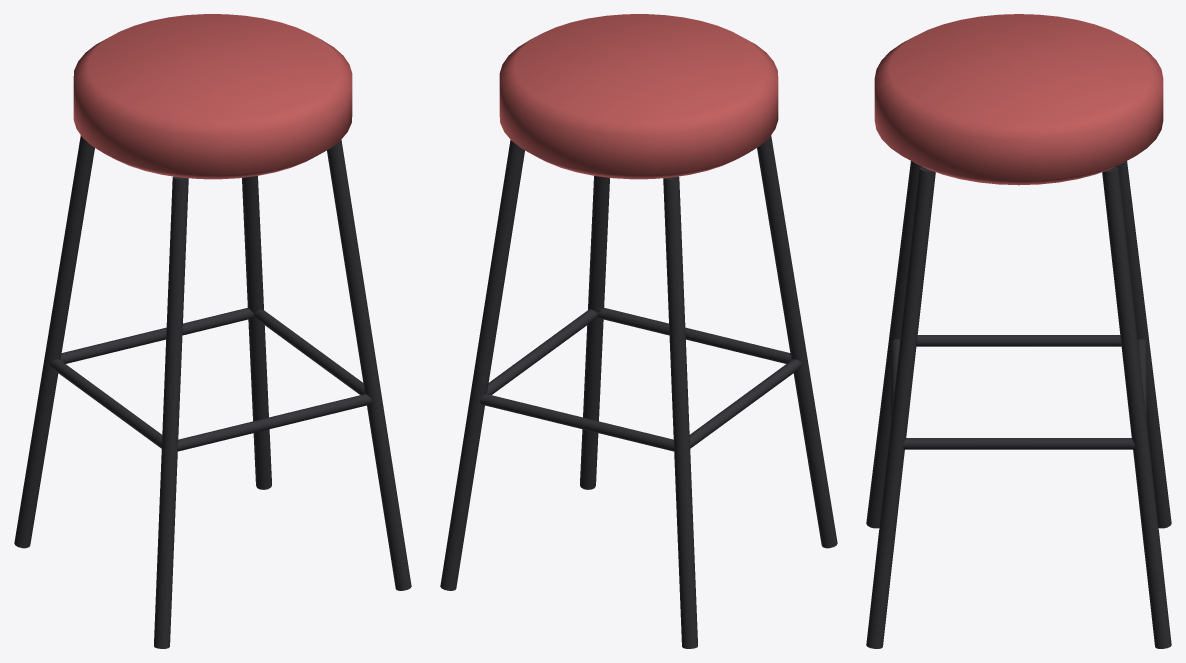
File: taburete_tapizado.glb
3 views of the same model, side by side, from view 1: azimuth 30°, elevation 25°; view 2: azimuth 150°, elevation 25°; view 3: azimuth 270°, elevation 25° (orthographic). The views are drawn at different scales.
Parts seen in each view (by area): view 1: asiento, aro_0; view 2: asiento, aro_0; view 3: asiento, aro_0.
Boxes of the visible parts, x1,y1,x2,y2 form: asiento: [73, 14, 352, 179]; aro_0: [14, 135, 411, 648]; asiento: [499, 14, 778, 179]; aro_0: [440, 135, 837, 648]; asiento: [874, 14, 1163, 185]; aro_0: [866, 161, 1171, 648].
Bounding box in the file's own units: 0.4019 × 0.7536 × 0.4019.
